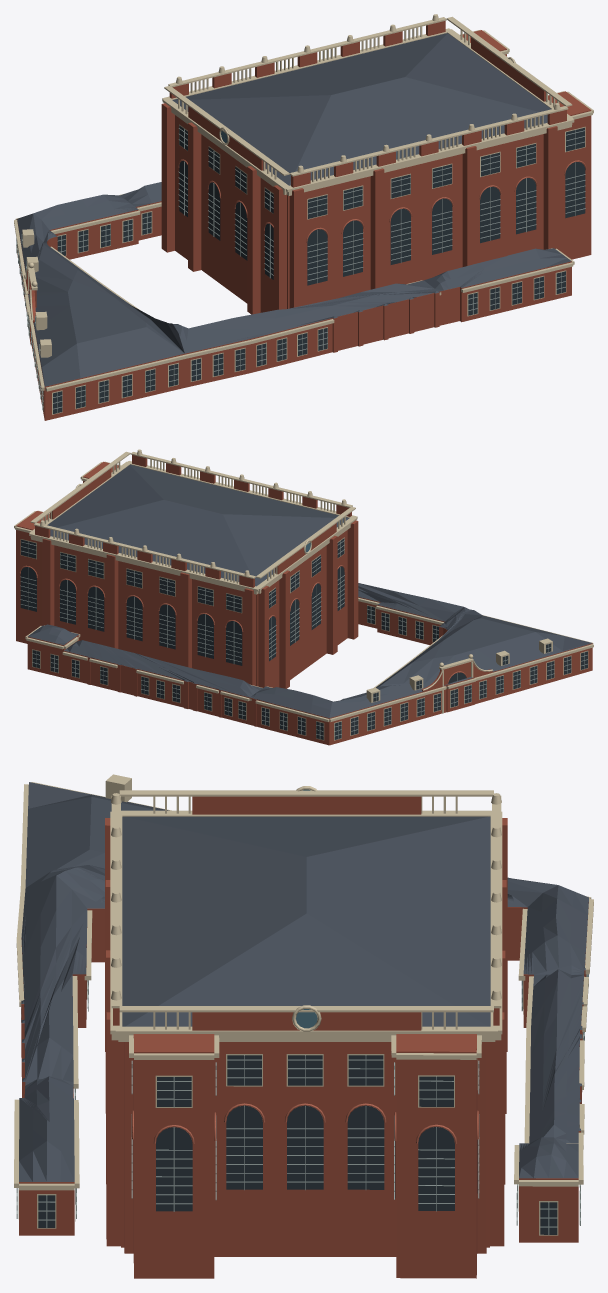
The model's file is portuguese-synagogue.glb.
3 renders of one model, top to bottom at view 1: azimuth 30°, elevation 25°; view 2: azimuth 150°, elevation 25°; view 3: azimuth 270°, elevation 25°, orthographic. The views are drawn at different scales.
Visible parts, largest first — view 1: portuguese-synagogue; view 2: portuguese-synagogue; view 3: portuguese-synagogue.
Boxes of the visible parts, <box> form: portuguese-synagogue: <box>14,14,593,420</box>; portuguese-synagogue: <box>14,449,593,745</box>; portuguese-synagogue: <box>14,774,593,1278</box>.
Size of the model in its own units: 80.78 by 22.35 by 44.31.
